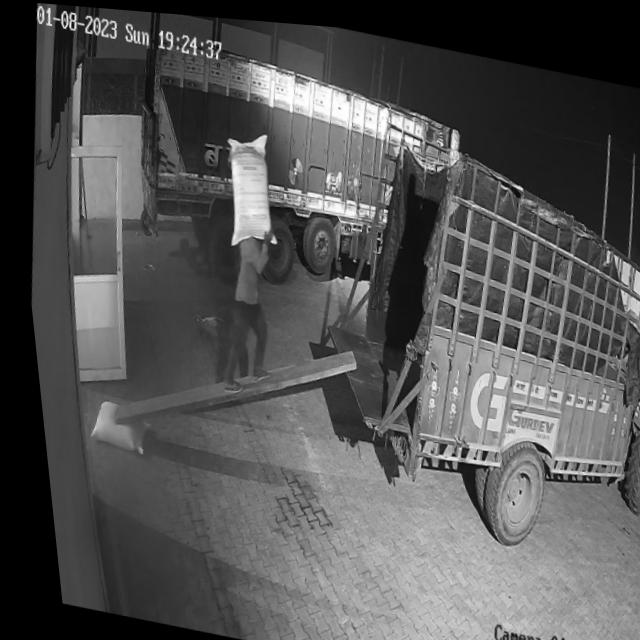sack: (210, 120, 285, 250), (77, 396, 144, 452)
